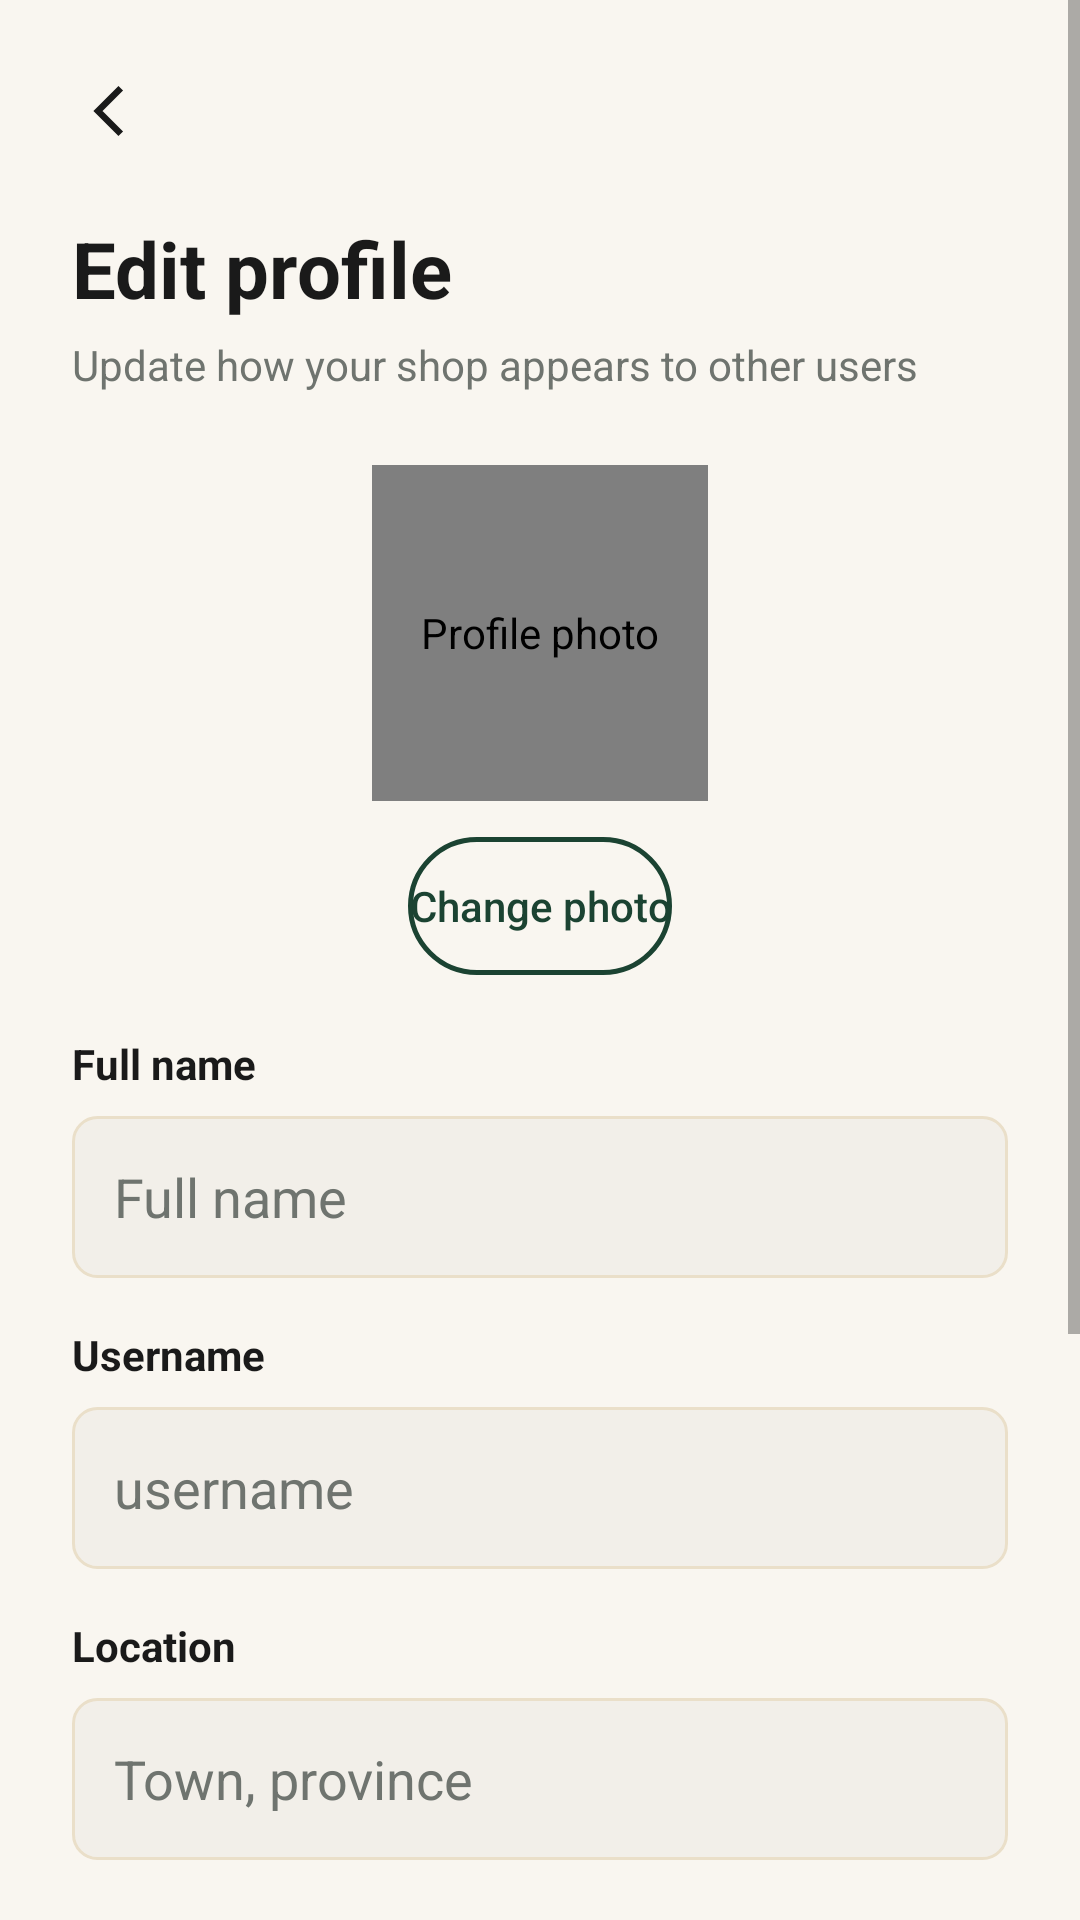

Where to tap for icons on this 1080×1920 app screen, as point (x, y):
Back: point (108, 111)
